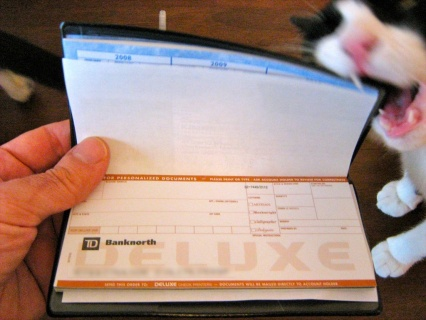Cat: (273, 0, 425, 282)
